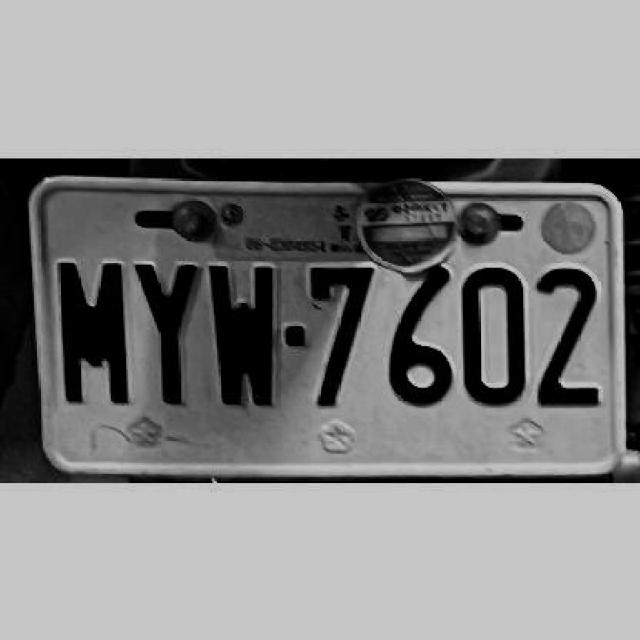-: (282, 322, 303, 342)
0: (458, 260, 530, 408)
2: (529, 260, 602, 414)
6: (388, 260, 457, 412)
7: (308, 260, 372, 405)
M: (54, 257, 128, 406)
W: (205, 262, 277, 409)
Y: (128, 258, 198, 411)
